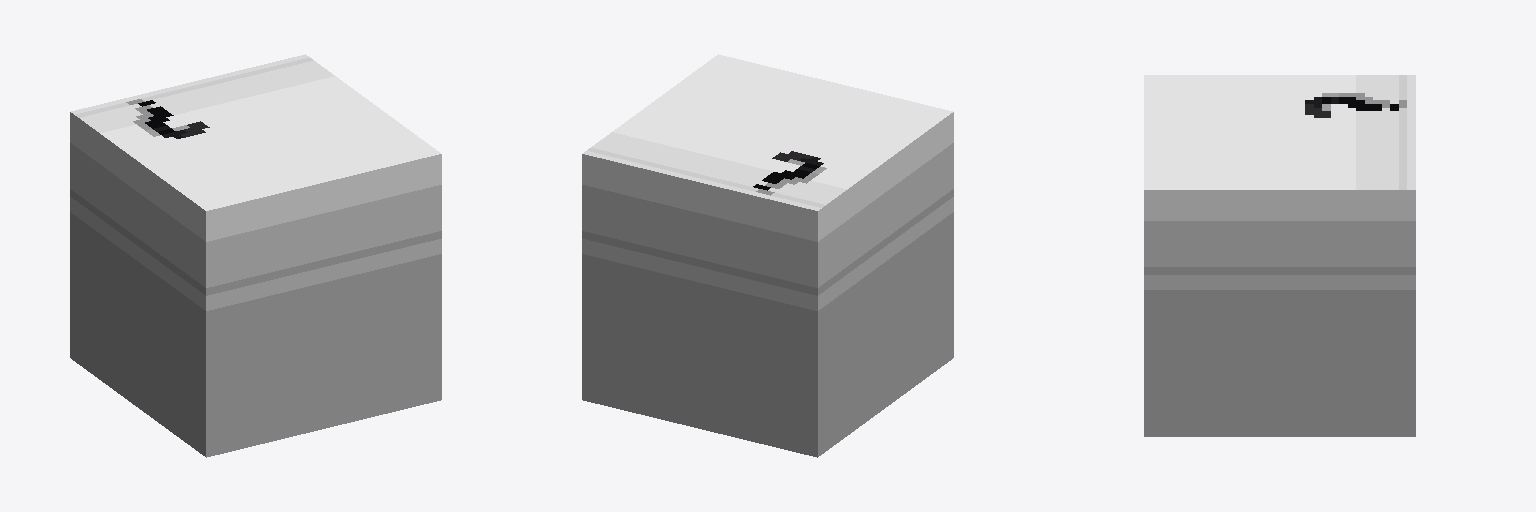
The picture shows the model from 3 angles: view 1: azimuth 30°, elevation 25°; view 2: azimuth 150°, elevation 25°; view 3: azimuth 270°, elevation 25°; orthographic projection.
Visible parts, largest first — view 1: cube; view 2: cube; view 3: cube.
Boxes of the visible parts, x1=… form: cube: x1=70, y1=54, x2=441, y2=457; cube: x1=582, y1=54, x2=953, y2=457; cube: x1=1144, y1=75, x2=1415, y2=436.
Size of the model in its own units: 2 by 2 by 2.
1 materials, 1 textured.